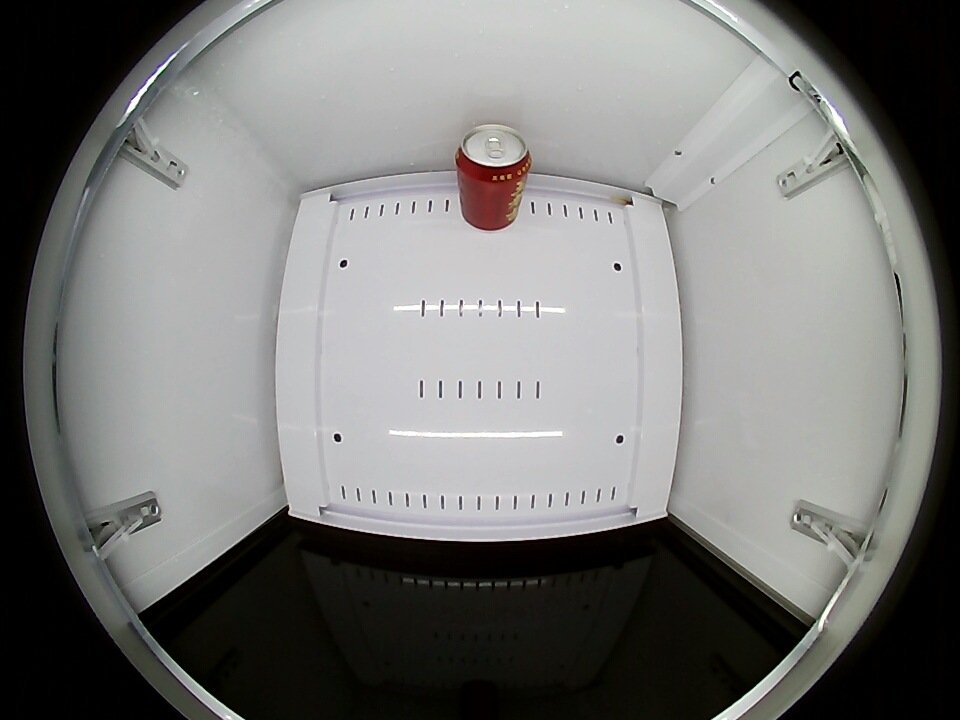wanglaoji-c: (455, 123, 532, 185)
